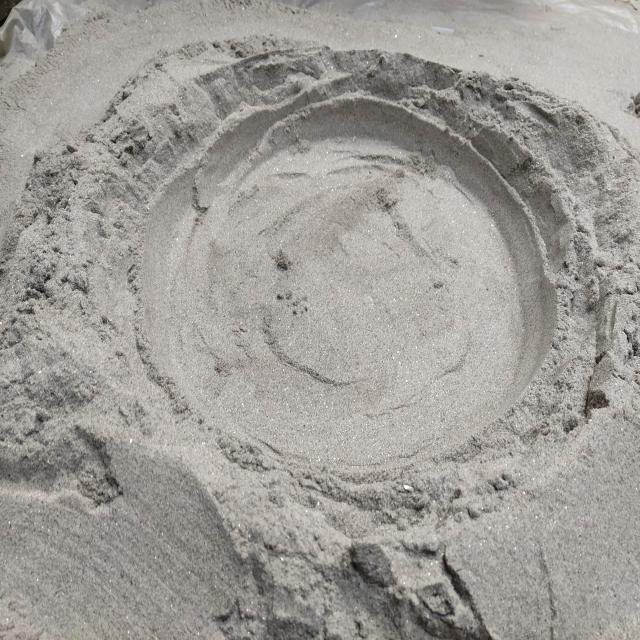C40: (142, 97, 555, 465)
